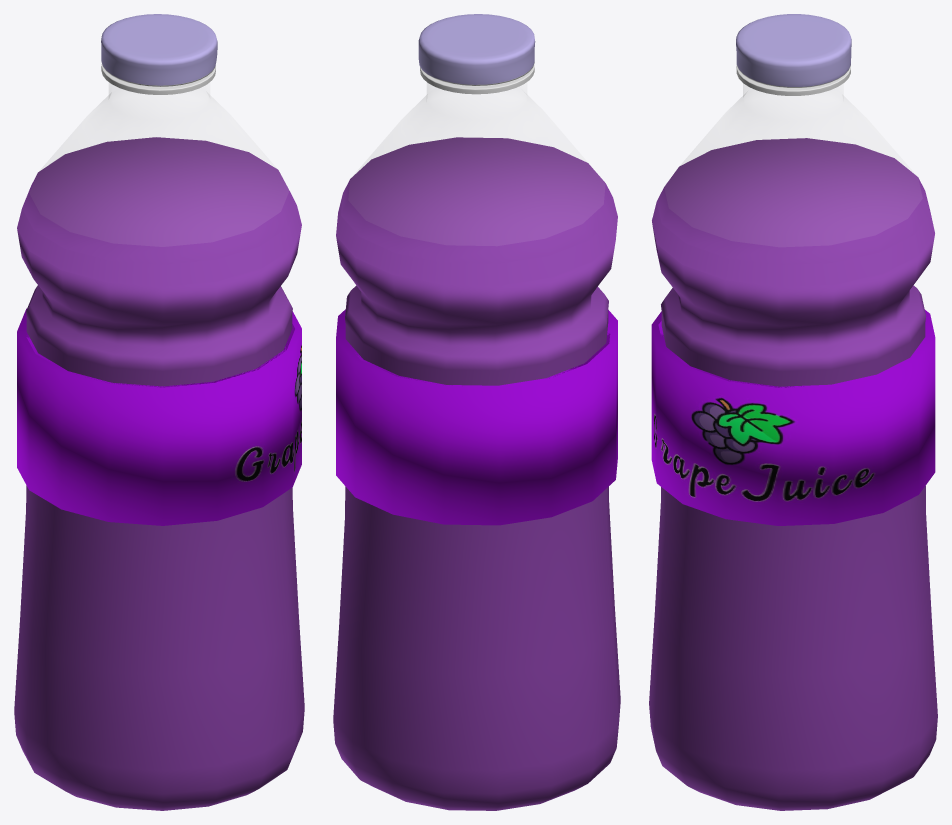
Rendered from JUGO_UVA.fbx.
3 views of the same model, side by side, from view 1: azimuth 30°, elevation 25°; view 2: azimuth 150°, elevation 25°; view 3: azimuth 270°, elevation 25° (orthographic).
Visible parts, largest first — view 1: botella.003, etiqueta.003, tapita.003; view 2: botella.003, etiqueta.003, tapita.003; view 3: botella.003, etiqueta.003, tapita.003.
Part boxes in pixels (x1,y1,x2,y2): botella.003: (14,83,304,810); etiqueta.003: (17,308,301,525); tapita.003: (101,14,217,94); botella.003: (333,83,620,810); etiqueta.003: (336,309,617,525); tapita.003: (418,14,535,94); botella.003: (649,84,937,810); etiqueta.003: (651,309,935,525); tapita.003: (736,14,851,95).
Size of the model in its own units: 156 by 438 by 156.
Materials: 5 (1 with a texture image).
